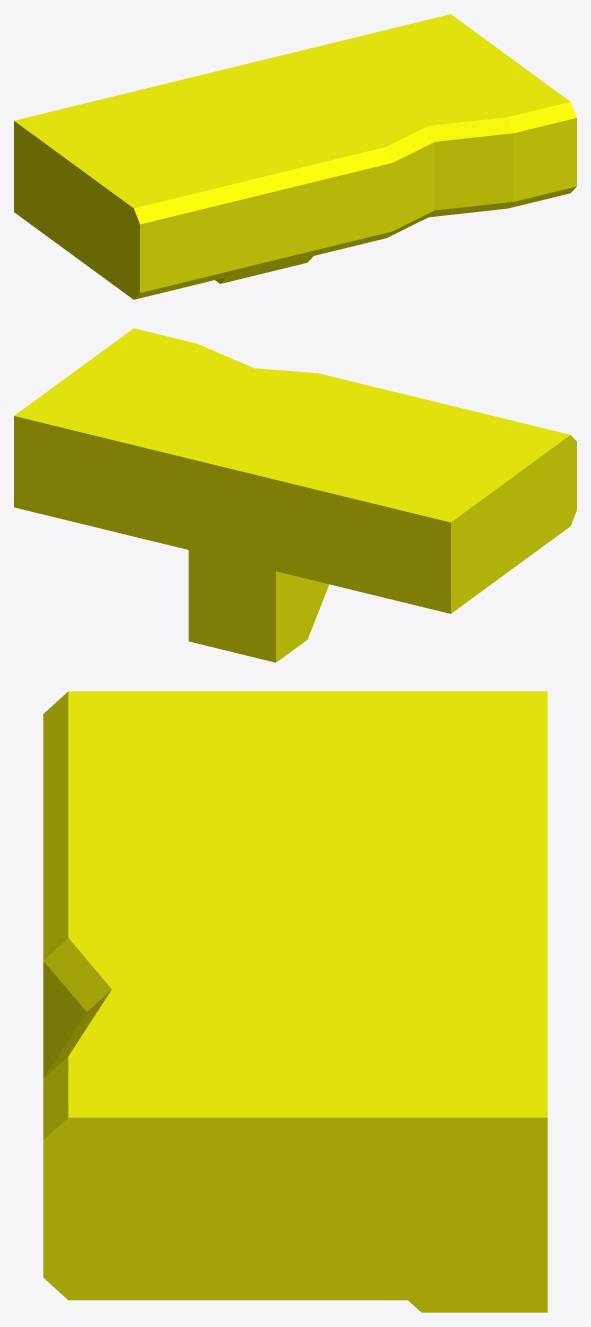
Rendered from kaykit-shelf-small.glb.
3 views of the same model, one above another, from view 1: azimuth 30°, elevation 25°; view 2: azimuth 150°, elevation 25°; view 3: azimuth 270°, elevation 25° (orthographic). The views are drawn at different scales.
Parts seen in each view (by area): view 1: shelf_small; view 2: shelf_small; view 3: shelf_small.
Boxes of the visible parts, bbox=[...] form: shelf_small: bbox=[14, 14, 576, 299]; shelf_small: bbox=[14, 328, 576, 662]; shelf_small: bbox=[43, 691, 547, 1312].
Size of the model in its own units: 1 by 0.3999 by 0.5001.
